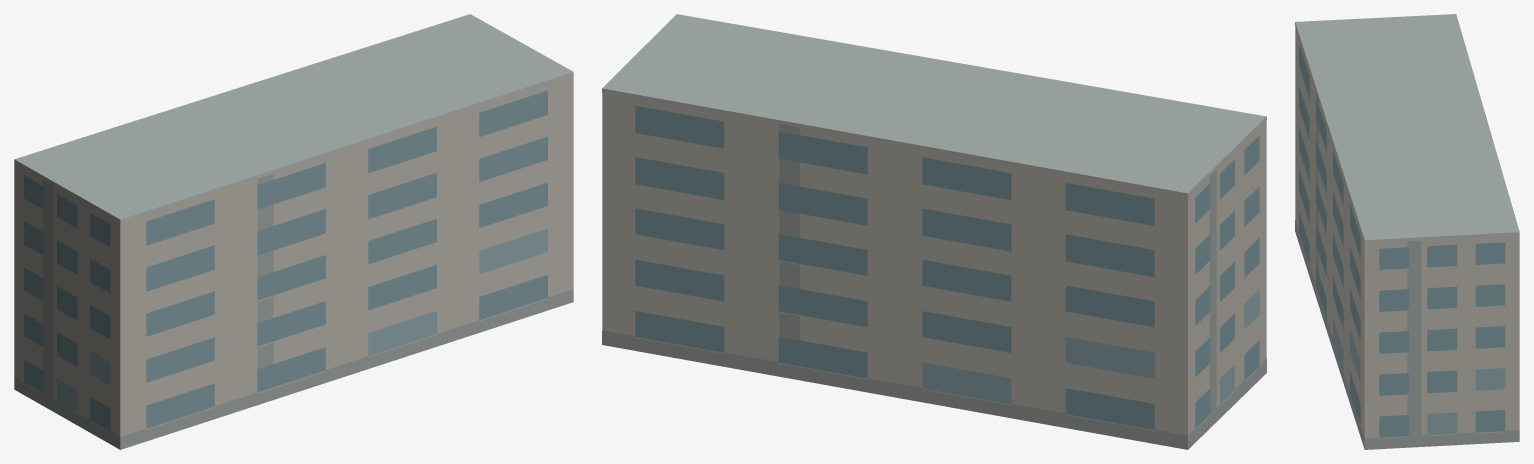
File: residential-d555bbfa-c0b8-472e-b8e5-655c5a4e8b5e.glb
The picture shows the model from 3 angles, left to right: view 1: azimuth 30°, elevation 25°; view 2: azimuth 150°, elevation 25°; view 3: azimuth 270°, elevation 25°; orthographic projection. The views are drawn at different scales.
Parts seen in each view (by area): view 1: residential-d555bbfa-c0b8-472e-b8e5-655c5a4e8b5e.tmp; view 2: residential-d555bbfa-c0b8-472e-b8e5-655c5a4e8b5e.tmp; view 3: residential-d555bbfa-c0b8-472e-b8e5-655c5a4e8b5e.tmp.
Part boxes in pixels (left/top/right/bottom): residential-d555bbfa-c0b8-472e-b8e5-655c5a4e8b5e.tmp: left=14, top=14, right=573, bottom=449; residential-d555bbfa-c0b8-472e-b8e5-655c5a4e8b5e.tmp: left=602, top=14, right=1266, bottom=449; residential-d555bbfa-c0b8-472e-b8e5-655c5a4e8b5e.tmp: left=1295, top=14, right=1519, bottom=449.
Bounding box in the file's own units: 35.31 × 15.25 × 14.82.
